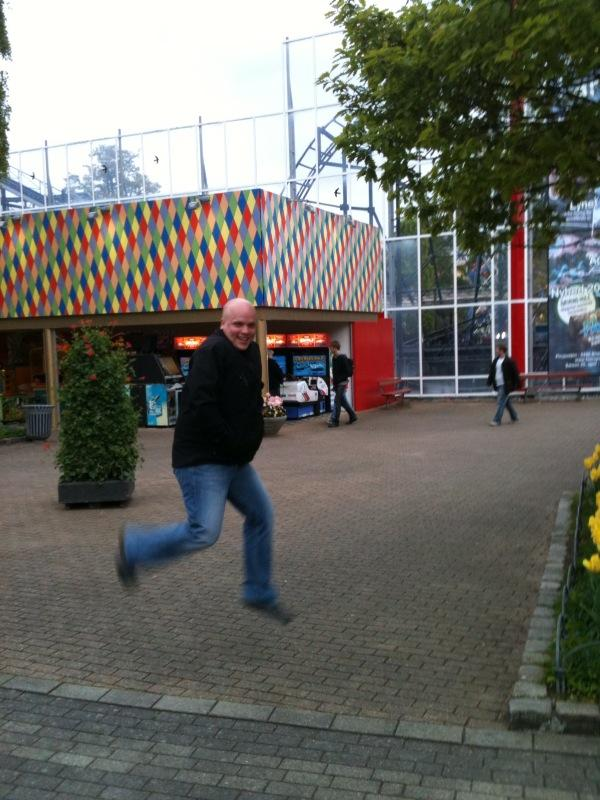person: (117, 296, 294, 626)
